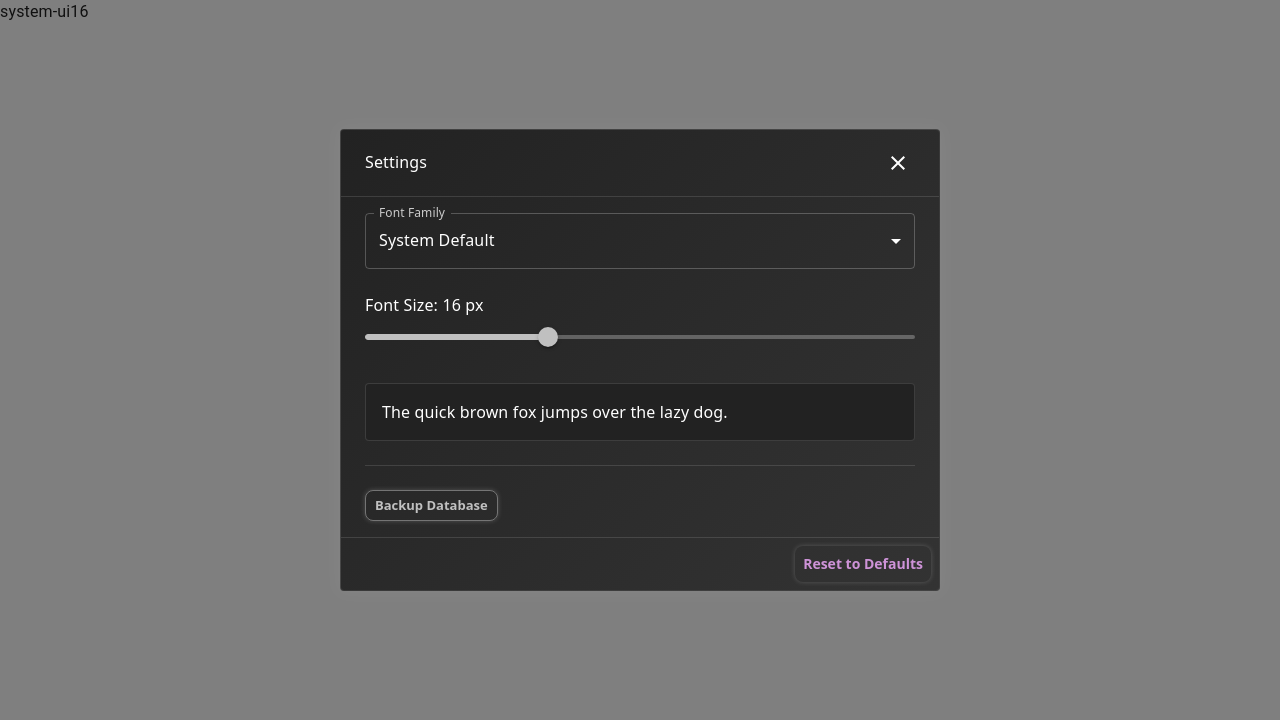
SettingsDialog › settings updates › changing font family updates context
Expected: the text with test id "current-font-family" reads "system-ui", [0,2,70,21]
// Open select and choose Times New Roman
What coordinates should you click on to do the following:
click the dropdown named "font family"
I would click on:
 (437, 240)
Its box is [379,229,495,251].
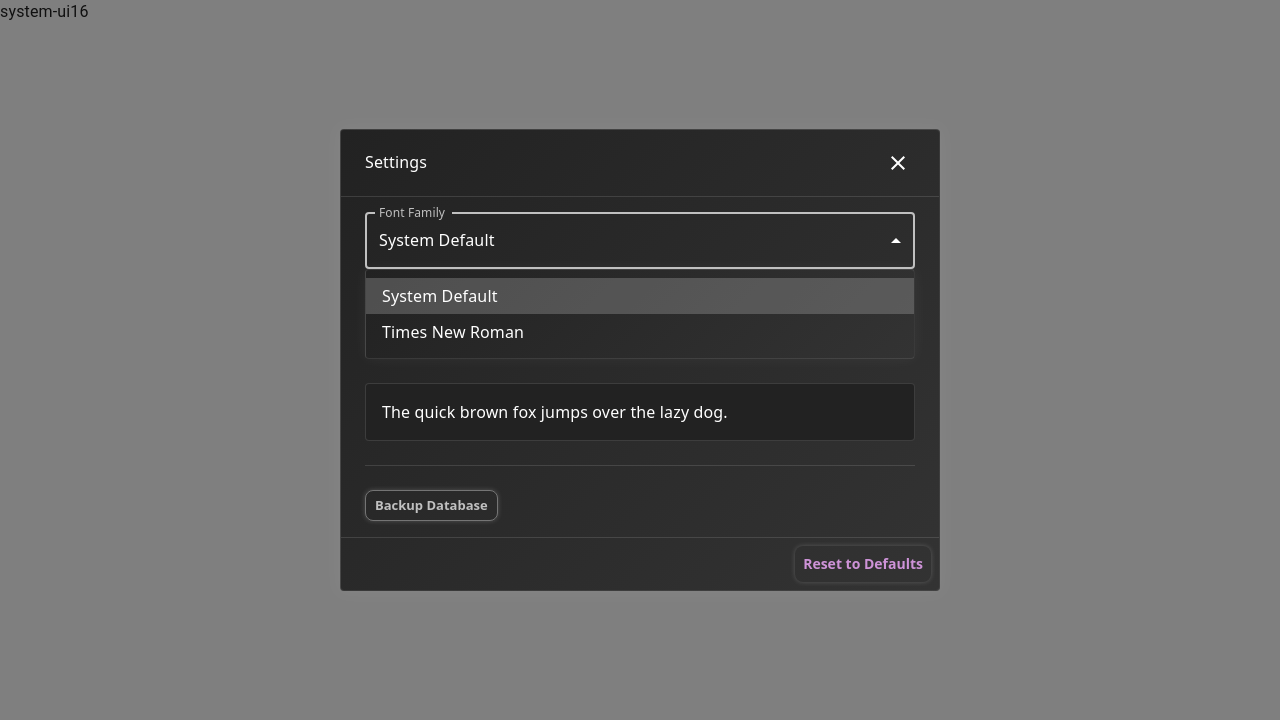
What coordinates should you click on to do the following:
click the option "Times New Roman"
I would click on:
 (453, 332)
Its box is [382,321,524,343].
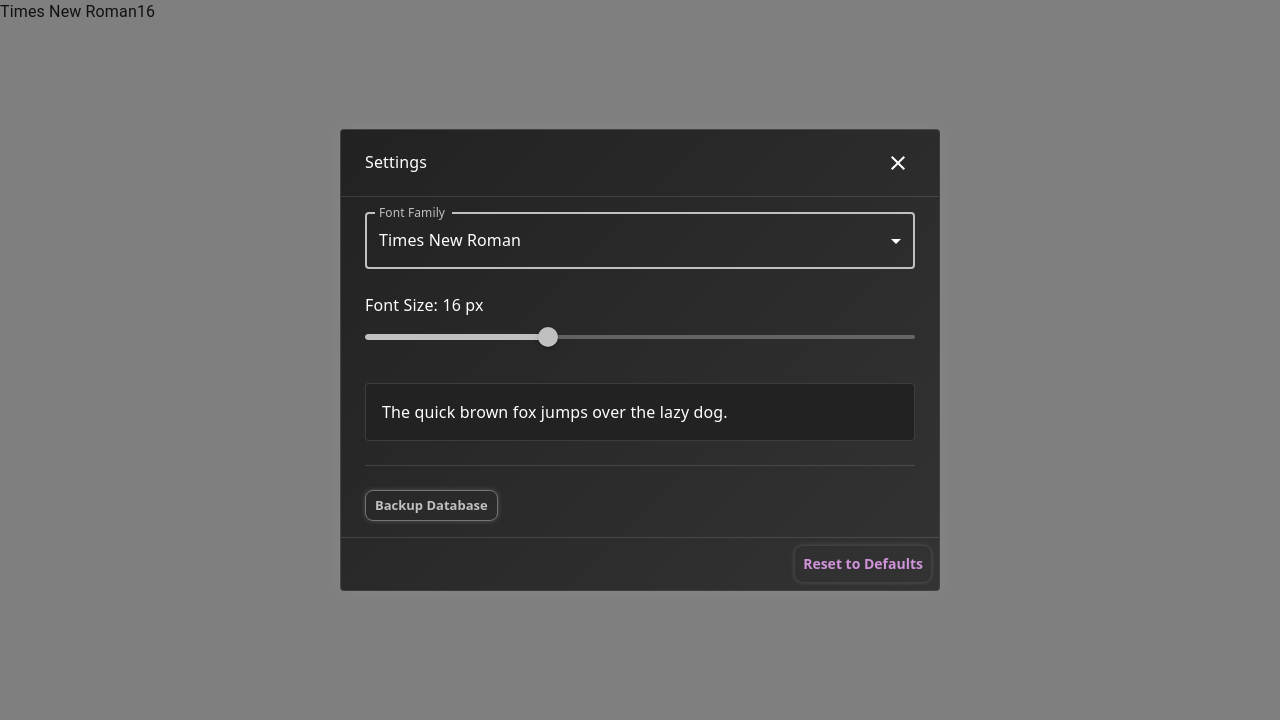
Result: the text with test id "current-font-family" reads "Times New Roman" at [0,2,137,21]
